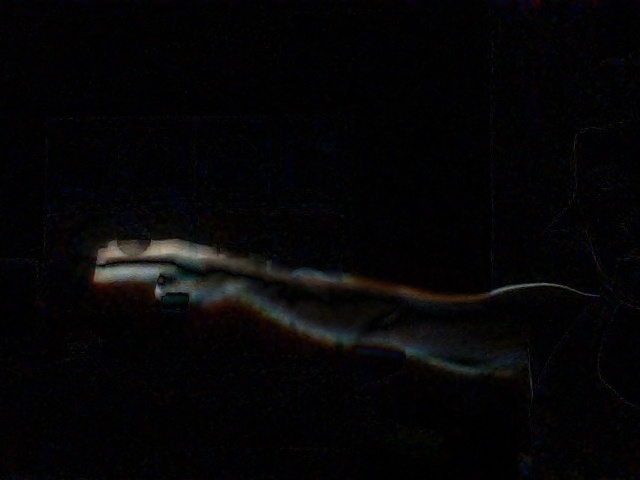hand_pa: (91, 236, 240, 311)
